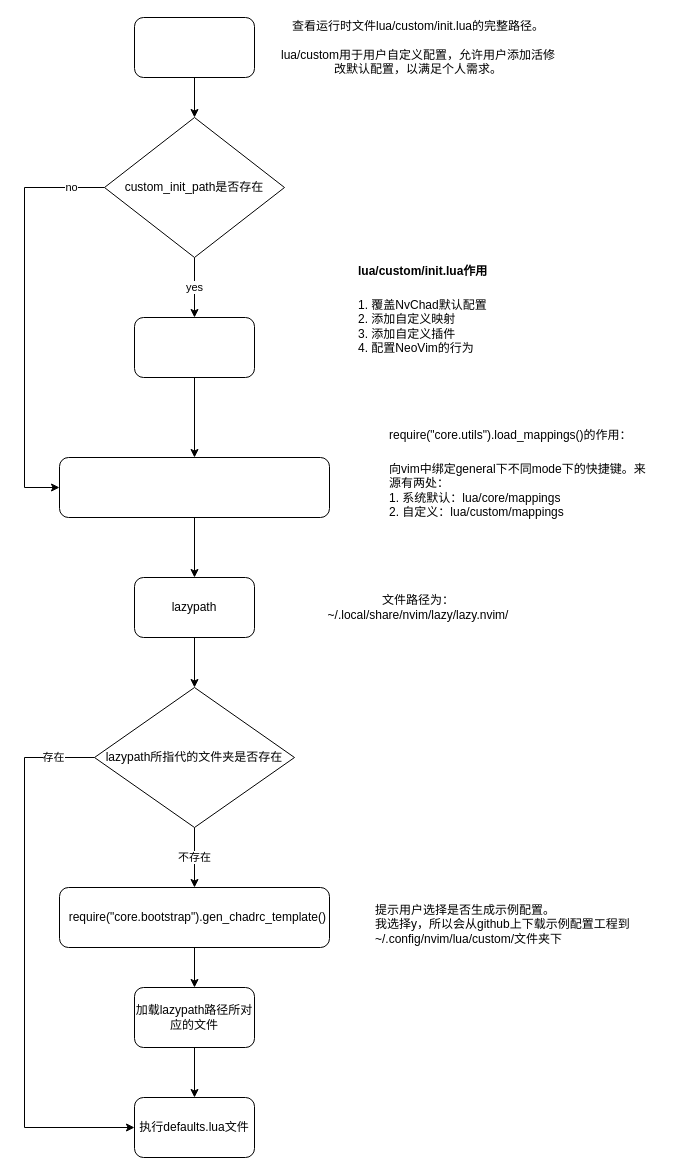
This 681x1175 diagram has some shape labels left out. The centre of each missing label's shape, as x and y in pixels:
custom_init_path: the point at 194,47
require("core.utils").load_mappings(): the point at 194,487
运行lua/custom/init.lua: the point at 194,347
